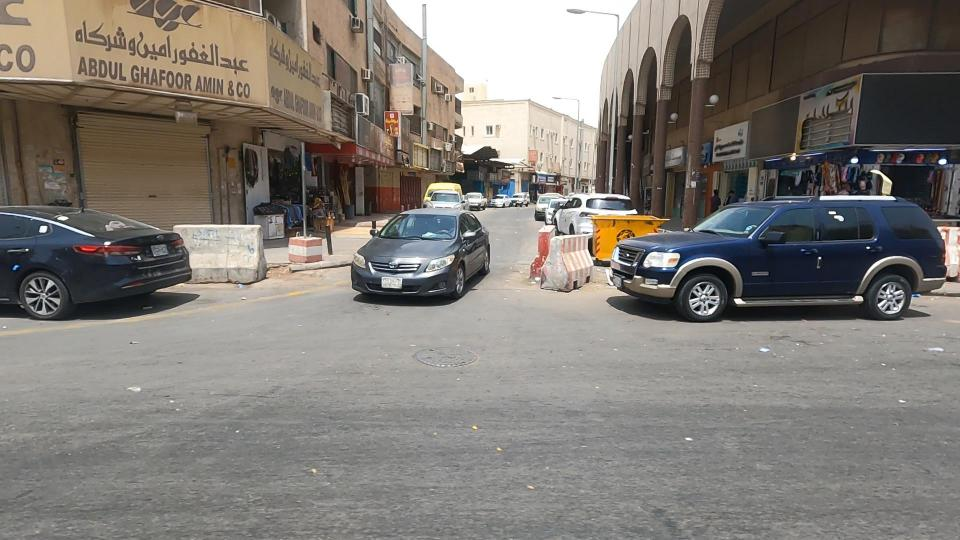BAD_BILLBOARD: (740, 54, 903, 188), (279, 46, 426, 193), (376, 122, 486, 192)
